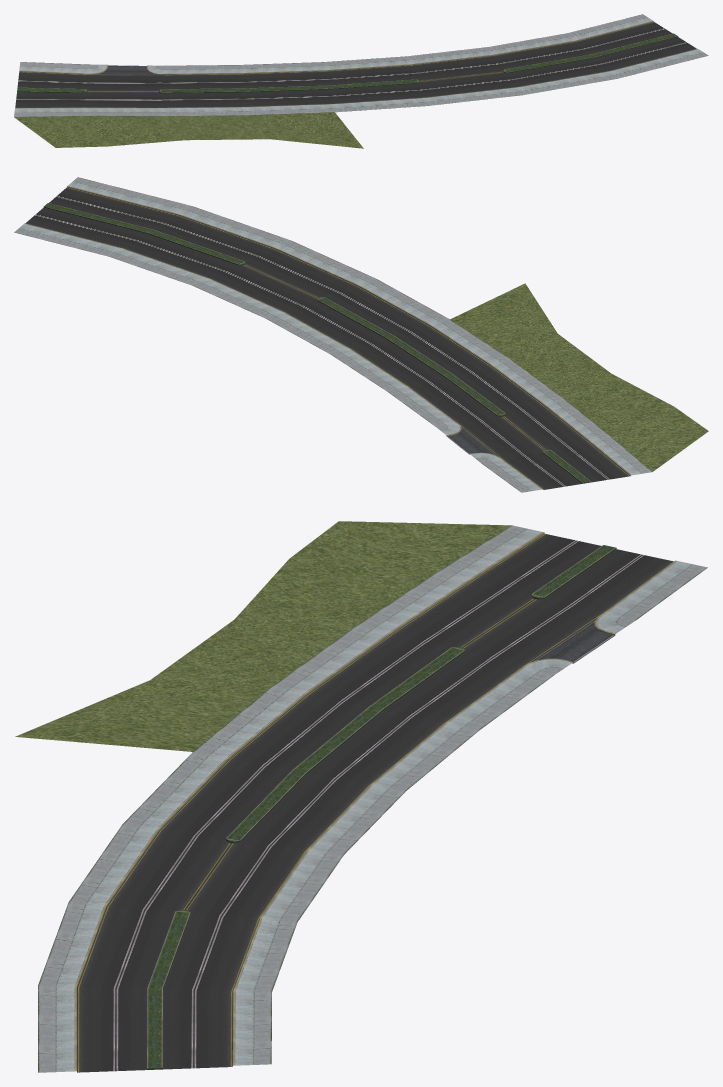
The model's file is roads34_law2.obj.
3 renders of one model, top to bottom at view 1: azimuth 30°, elevation 25°; view 2: azimuth 150°, elevation 25°; view 3: azimuth 270°, elevation 25°, orthographic. The views are drawn at different scales.
Visible parts, largest first — view 1: Roads34_LAw2; view 2: Roads34_LAw2; view 3: Roads34_LAw2.
Part boxes in pixels (x1,y1,x2,y2): Roads34_LAw2: [14, 14, 708, 148]; Roads34_LAw2: [14, 177, 708, 492]; Roads34_LAw2: [15, 521, 707, 1072].
Bounding box in the file's own units: 171 × 2.3 × 88.84.
